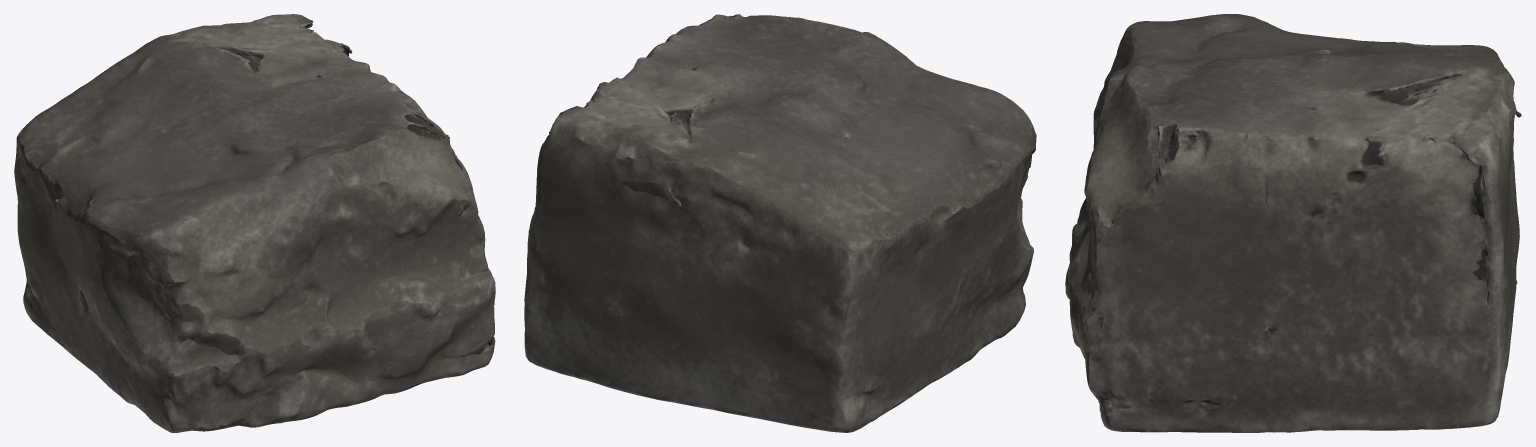
3 renders of one model, left to right at view 1: azimuth 30°, elevation 25°; view 2: azimuth 150°, elevation 25°; view 3: azimuth 270°, elevation 25°, orthographic. The views are drawn at different scales.
Visible parts, largest first — view 1: world; view 2: world; view 3: world.
Boxes of the visible parts, x1=… form: world: x1=14, y1=14, x2=495, y2=432; world: x1=524, y1=14, x2=1036, y2=432; world: x1=1065, y1=14, x2=1521, y2=432.
Size of the model in its own units: 0.45 by 0.304 by 0.4395.
1 material, 1 textured.
